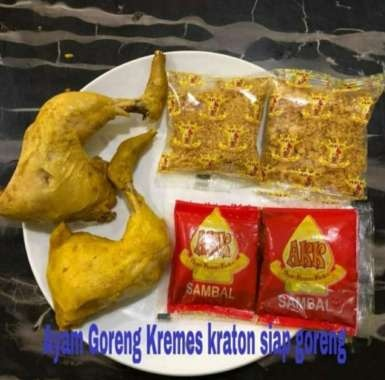ayam_goreng: (2, 49, 161, 231), (44, 131, 169, 322)
